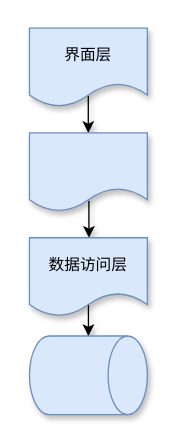
The diagram is 178 pixels wide and 447 high, and some of its shapes have lost their labels. Each missing label, with the centre of its shape:
"业务逻辑层" belongs at (89,173).
"数据库" belongs at (89,376).
